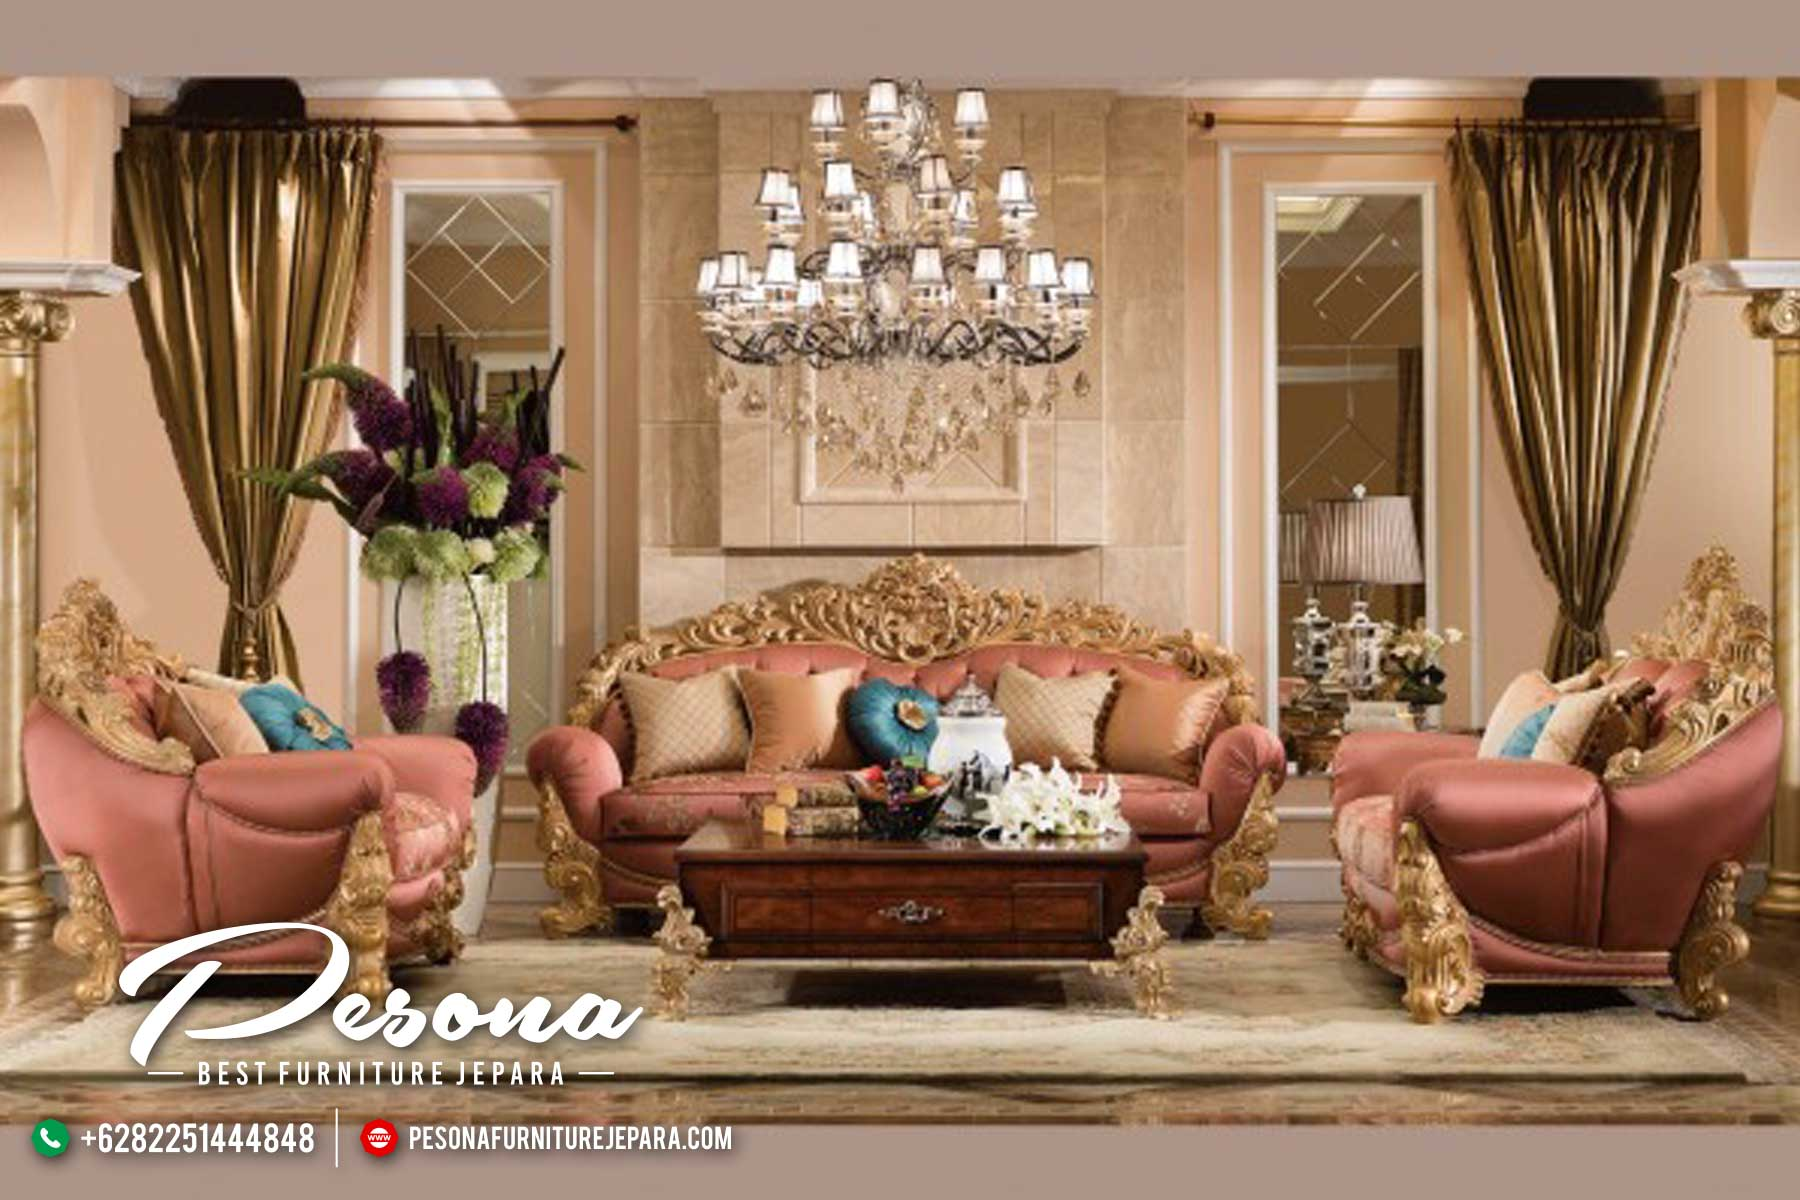Carving Chair: (541, 560, 1296, 952), (15, 565, 510, 1015), (1351, 595, 1791, 1050)
Carving Table: (670, 808, 1173, 1047)
